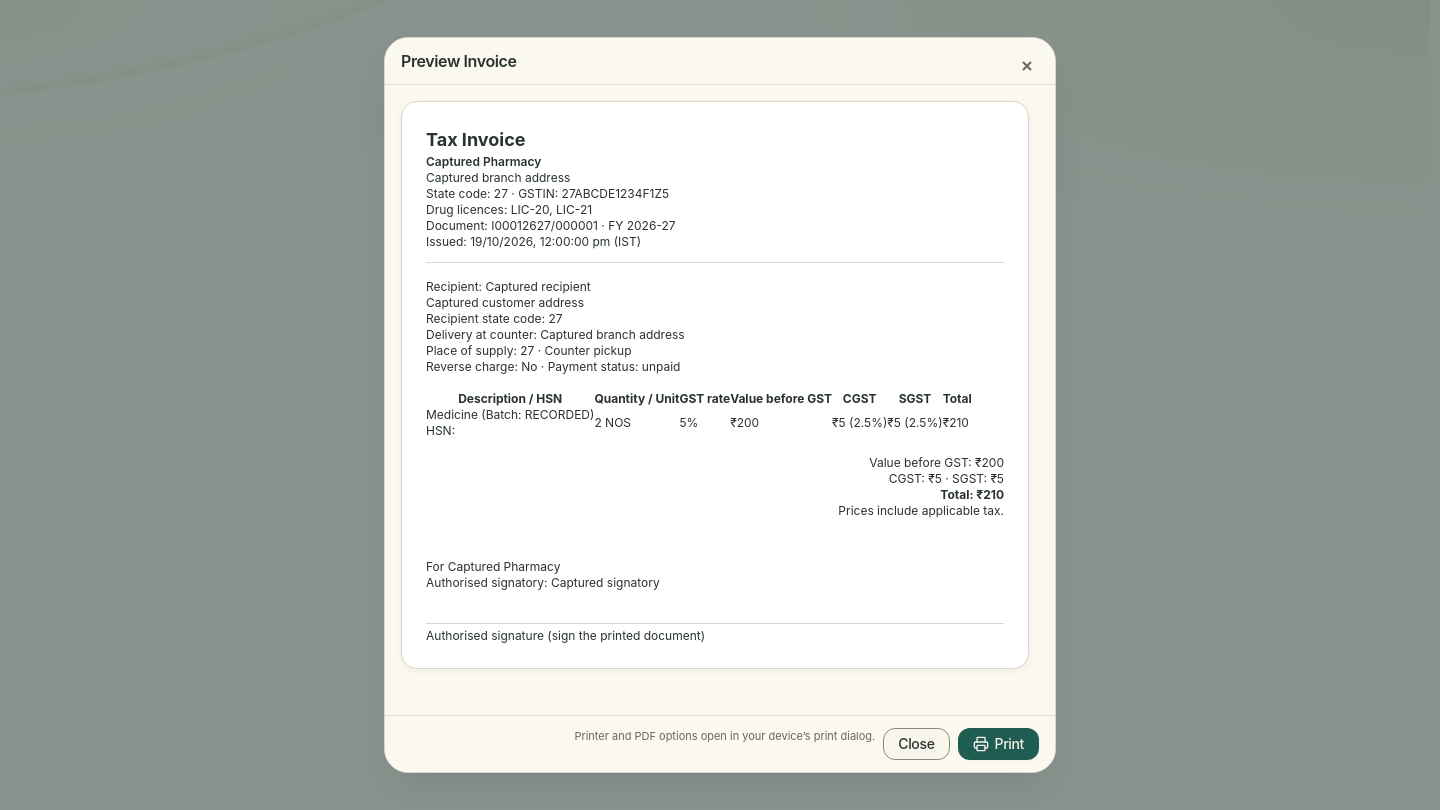
refuses an incomplete issued snapshot instead of printing a reconstructed clinical invoice
Click the button with aria-label "Print invoice": (998, 744) x1=958 y1=728 x2=1039 y2=760
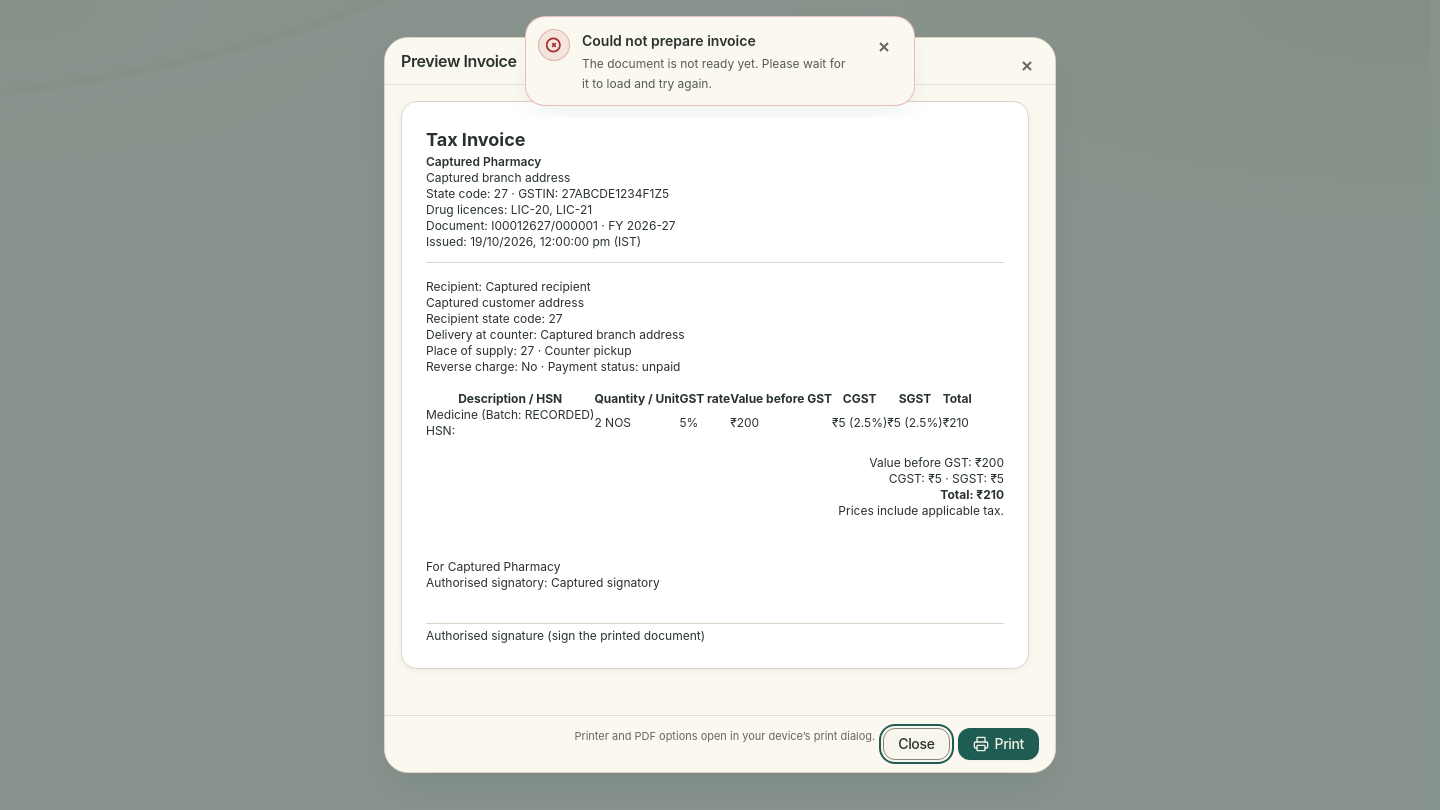
Expected: the text "Could not prepare invoice" is shown, x1=582 y1=32 x2=756 y2=49
